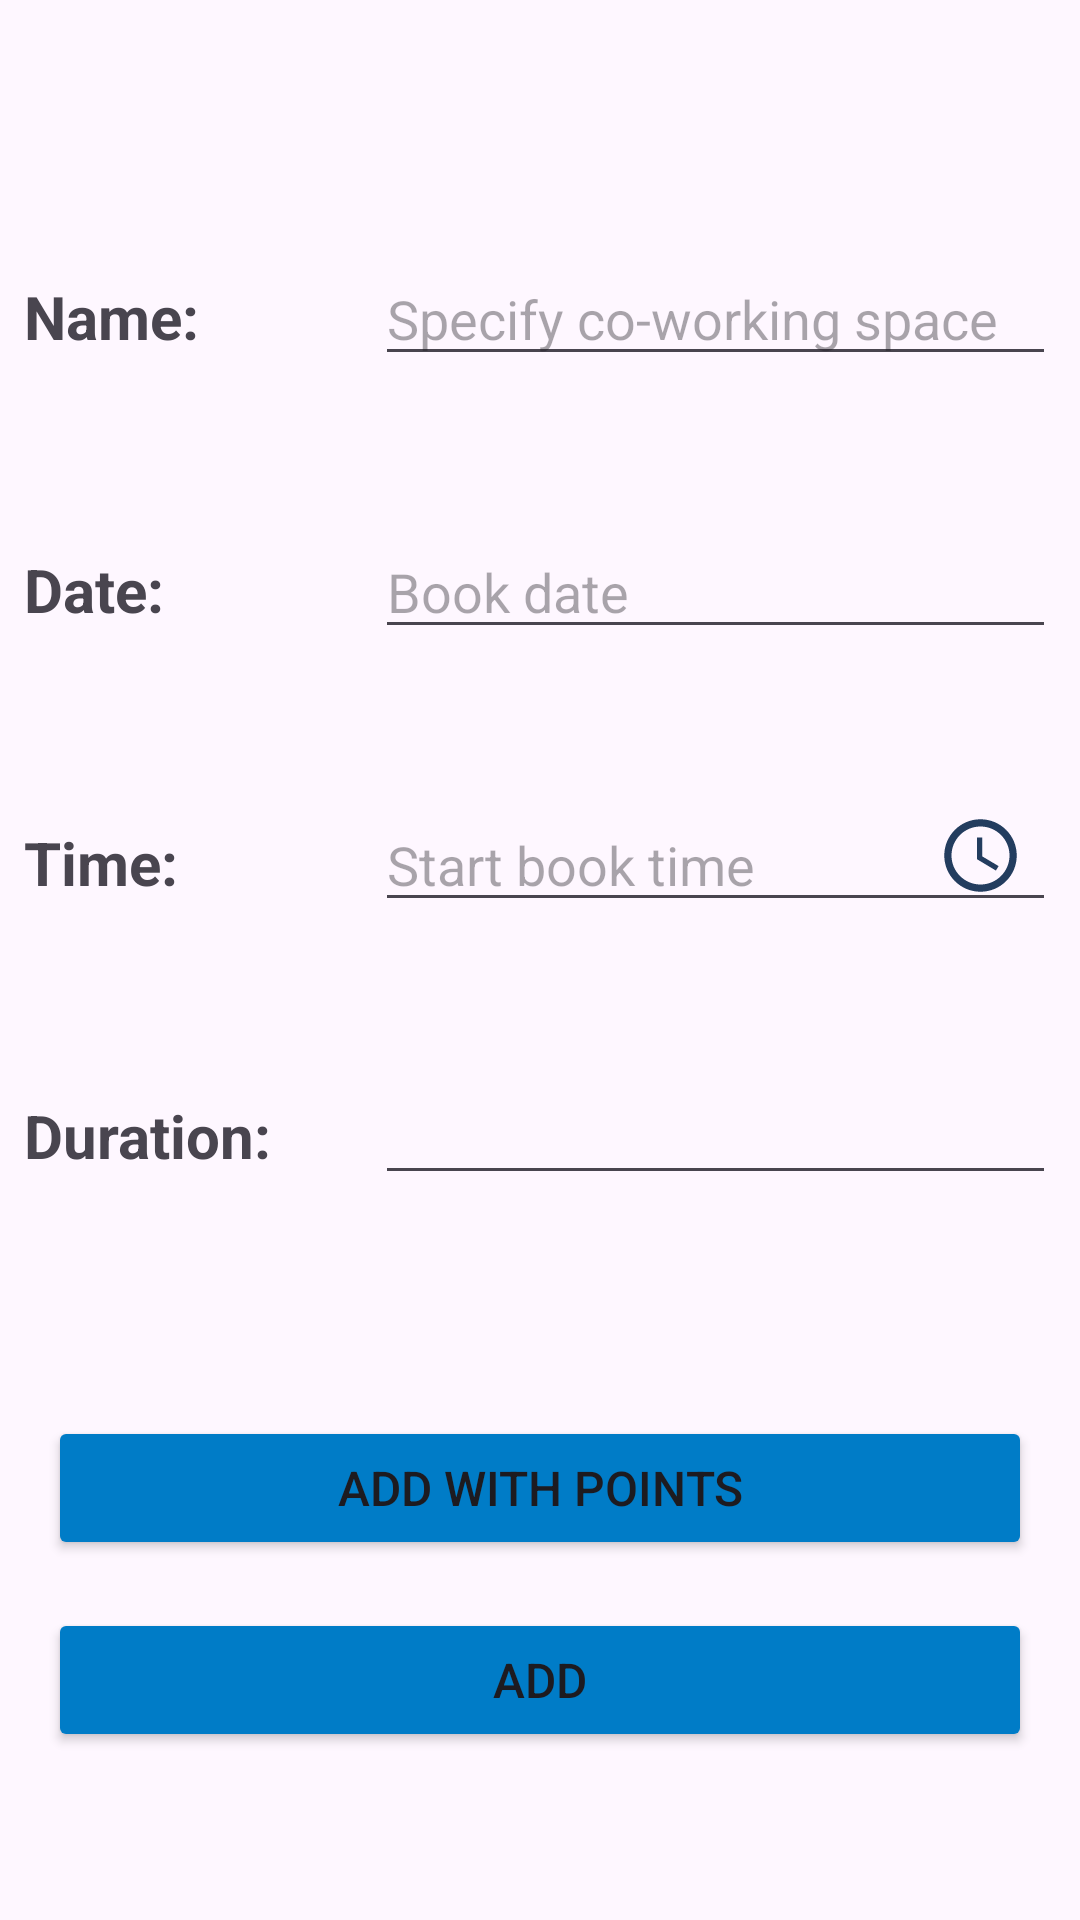

Locate icon controls on the screen. Image size 1080w x 1920h, boxes as [x1,y1,x2,y2].
access time: [944,819,1017,892]
